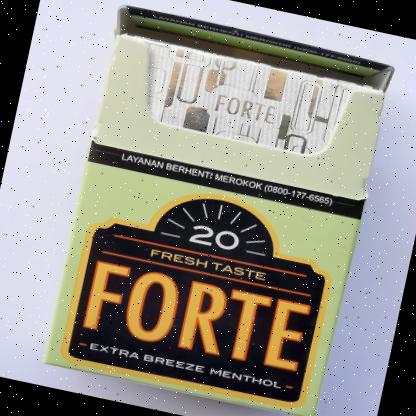bungkus rokok: (36, 0, 399, 416)
